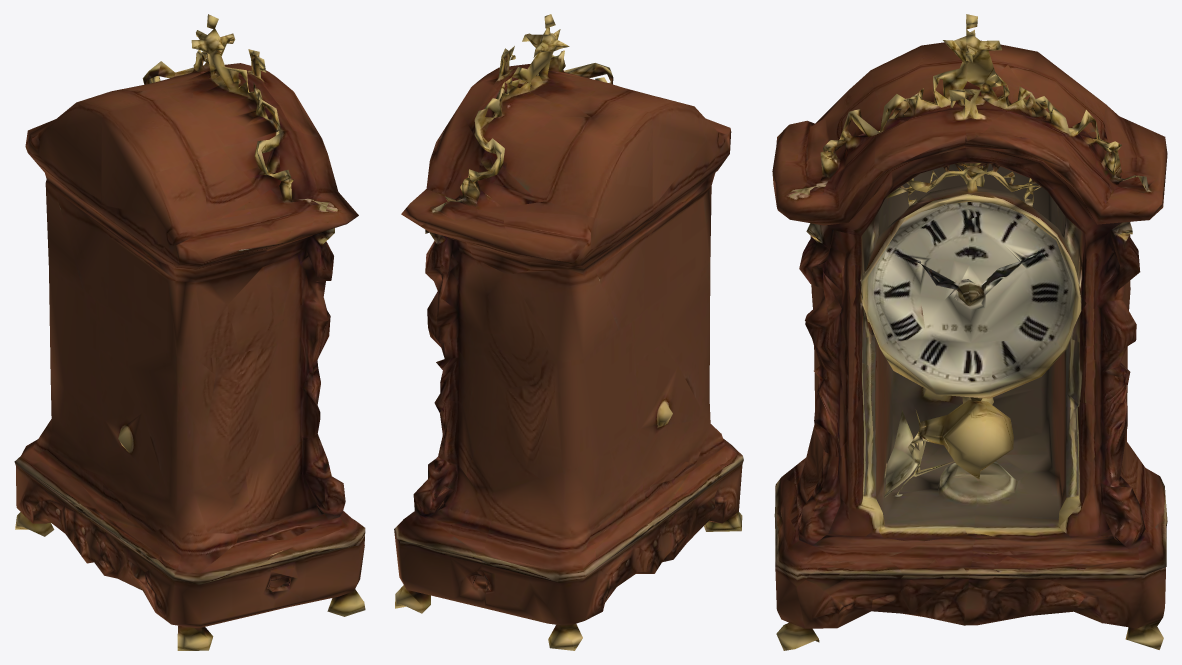
File: clock.glb
3 views of the same model, side by side, from view 1: azimuth 30°, elevation 25°; view 2: azimuth 150°, elevation 25°; view 3: azimuth 270°, elevation 25° (orthographic). The views are drawn at different scales.
Visible parts, largest first — view 1: tripo_node_a2dcb420-1bc2-4dbf-bd50-e34c8850fc22; view 2: tripo_node_a2dcb420-1bc2-4dbf-bd50-e34c8850fc22; view 3: tripo_node_a2dcb420-1bc2-4dbf-bd50-e34c8850fc22.
Boxes of the visible parts, x1=… form: tripo_node_a2dcb420-1bc2-4dbf-bd50-e34c8850fc22: x1=14, y1=14, x2=365, y2=650; tripo_node_a2dcb420-1bc2-4dbf-bd50-e34c8850fc22: x1=394, y1=14, x2=743, y2=650; tripo_node_a2dcb420-1bc2-4dbf-bd50-e34c8850fc22: x1=772, y1=14, x2=1167, y2=650.
Bounding box in the file's own units: 0.3744 × 0.9779 × 0.5836.
1 material, 1 textured.
